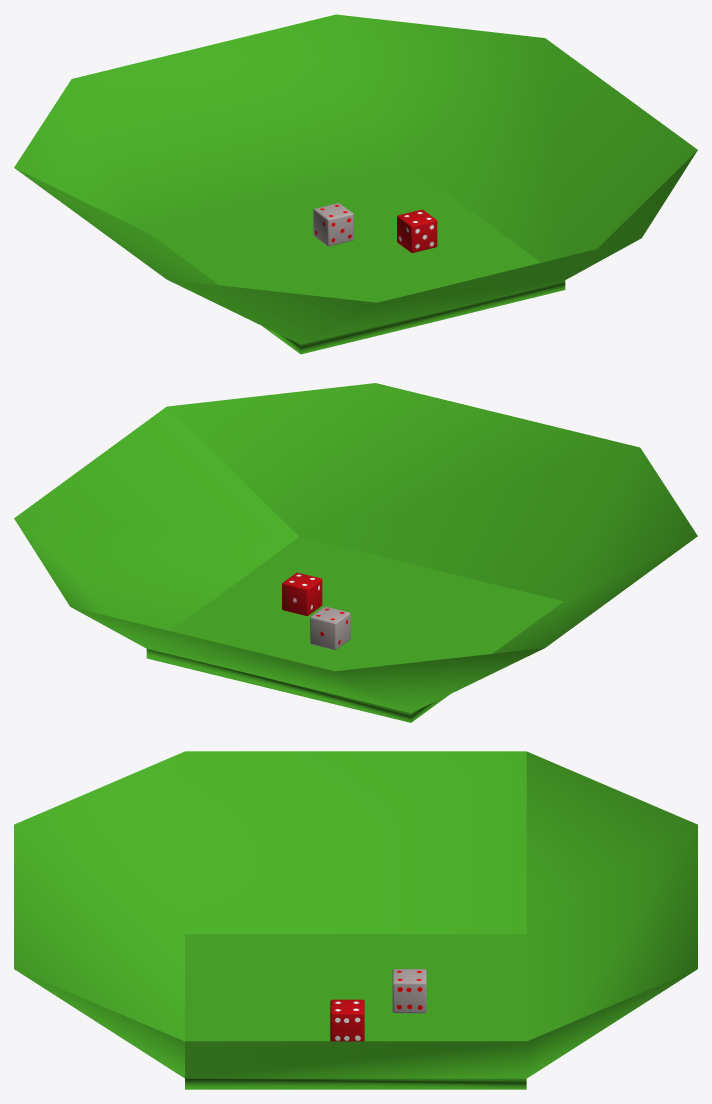
File: DiceMatScene.dae
3 views of the same model, one above another, from view 1: azimuth 30°, elevation 25°; view 2: azimuth 150°, elevation 25°; view 3: azimuth 270°, elevation 25° (orthographic). The views are drawn at different scales.
Parts seen in each view (by area): view 1: Mat, WhiteDice, RedDice; view 2: Mat, WhiteDice, RedDice; view 3: Mat, WhiteDice, RedDice.
Boxes of the visible parts, bbox=[...] form: Mat: bbox=[14, 14, 697, 354]; WhiteDice: bbox=[313, 203, 353, 246]; RedDice: bbox=[397, 209, 437, 252]; Mat: bbox=[14, 383, 697, 722]; WhiteDice: bbox=[310, 606, 350, 649]; RedDice: bbox=[282, 572, 322, 615]; Mat: bbox=[14, 751, 697, 1089]; WhiteDice: bbox=[392, 969, 426, 1013]; RedDice: bbox=[330, 999, 364, 1041].
Size of the model in its own units: 4.02 by 4 by 0.7781.
